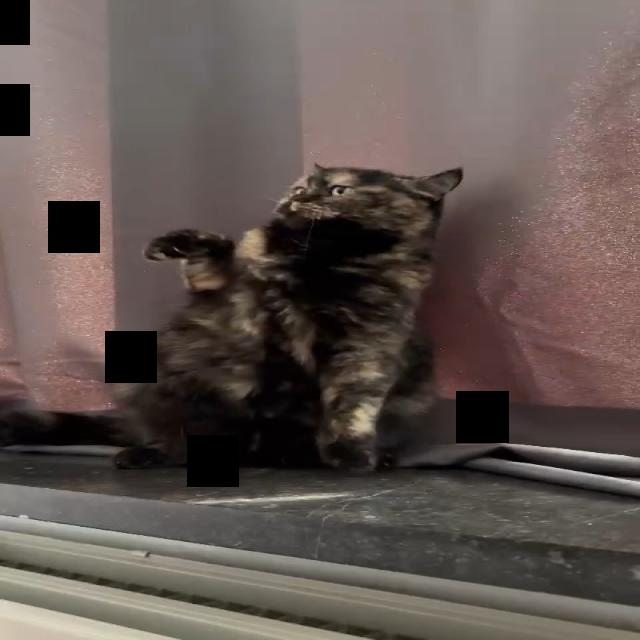authorized: (3, 161, 465, 474)
